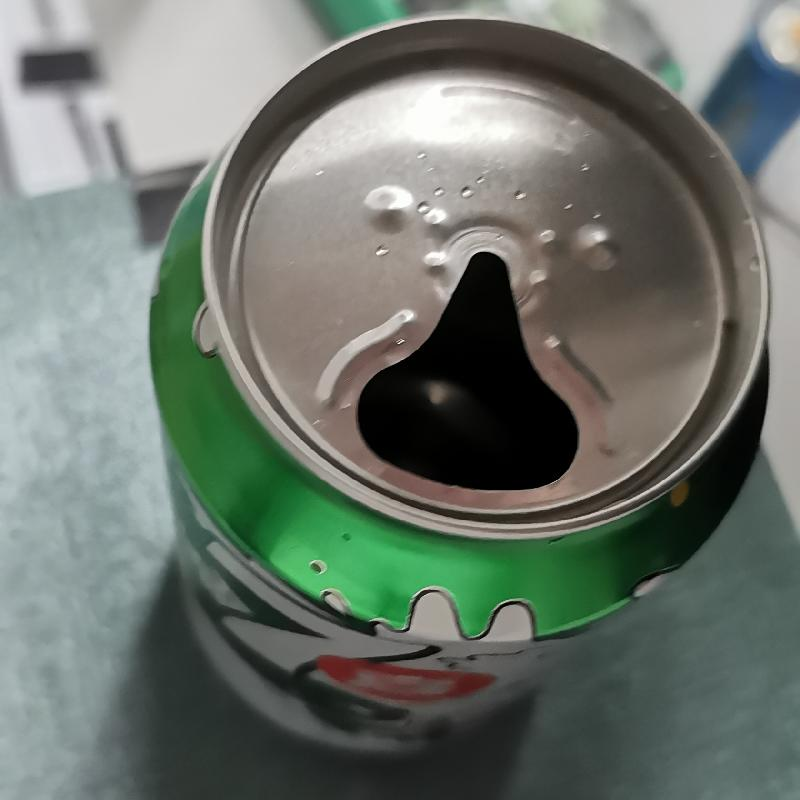cans: (127, 16, 777, 755)
